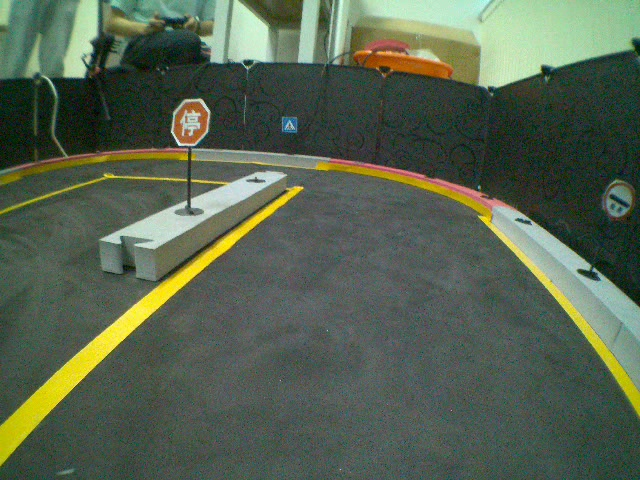Check: (605, 176, 636, 222)
Stop: (171, 96, 210, 146)
crossing: (280, 114, 298, 134)
